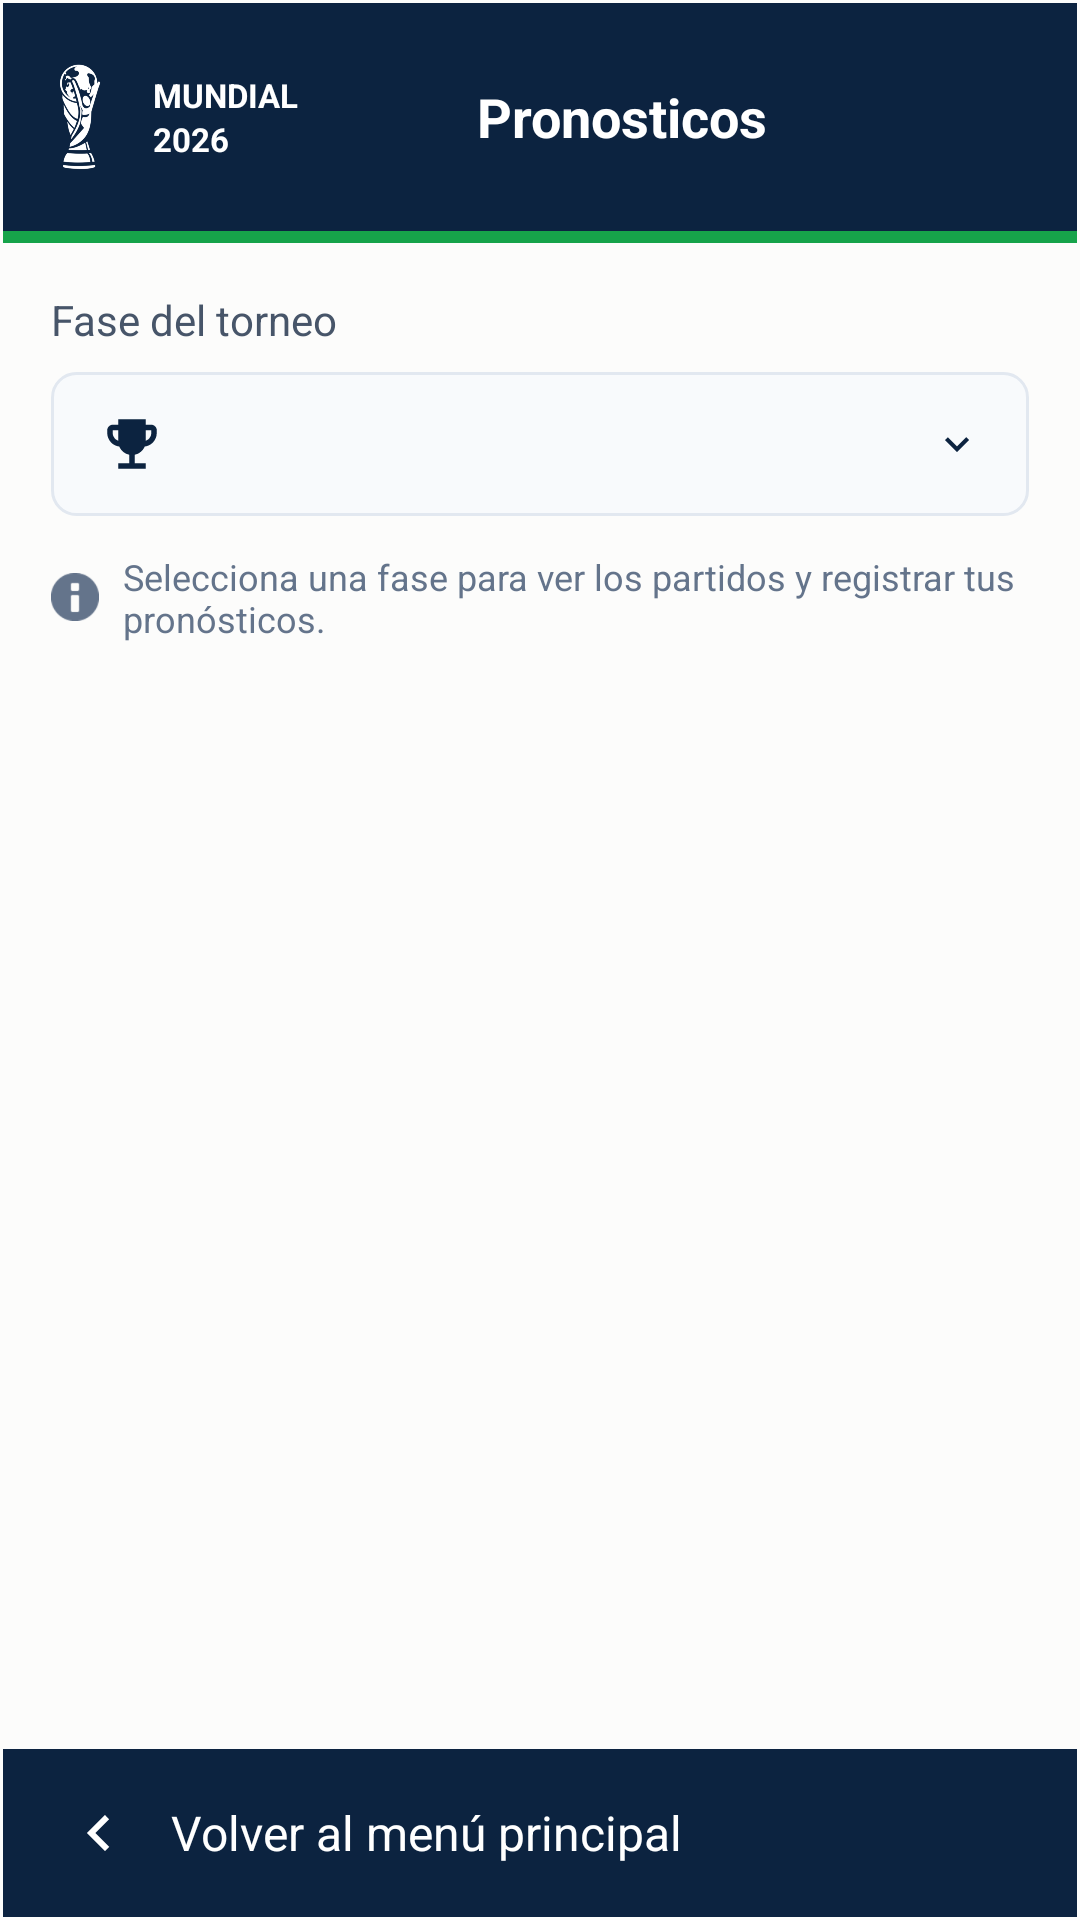

Icon bounding boxes for this 1080w x 1920h phone screenshot, format {"x1": x1, "y1": y1, "x2": x2, "y2": y2}:
copa: {"x1": 107, "y1": 419, "x2": 157, "y2": 469}
info: {"x1": 51, "y1": 573, "x2": 99, "y2": 621}
